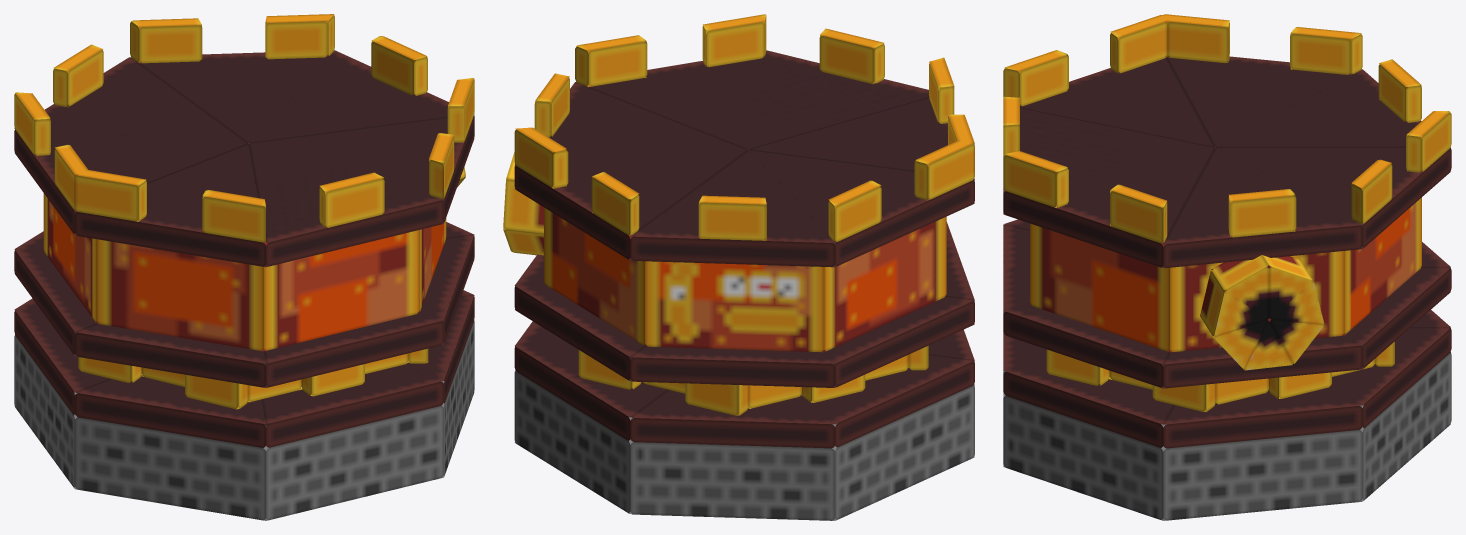
File: Clockwork_Cannon_Tower.fbx
The picture shows the model from 3 angles, left to right: view 1: azimuth 30°, elevation 25°; view 2: azimuth 150°, elevation 25°; view 3: azimuth 270°, elevation 25°; orthographic projection.
Parts seen in each view (by area): view 1: base_2, base, cannon_body, castle, base_1, gear; view 2: base_2, base, cannon_body, castle, base_1, gear, cannon; view 3: base_2, base, castle, cannon_body, base_1, cannon, gear.
Boxes of the visible parts, x1,y1,x2,y2 form: base_2: (14, 50, 474, 267); base: (14, 290, 474, 520); cannon_body: (43, 143, 446, 351); castle: (14, 14, 474, 242); base_1: (14, 222, 474, 387); gear: (78, 348, 428, 409); base_2: (514, 50, 974, 267); base: (514, 321, 974, 520); cannon_body: (544, 149, 946, 352); castle: (514, 14, 974, 242); base_1: (514, 222, 974, 387); gear: (578, 345, 928, 415); cannon: (503, 152, 543, 255); base_2: (1003, 55, 1451, 268); base: (1003, 310, 1451, 520); castle: (1003, 14, 1451, 243); cannon_body: (1030, 147, 1421, 352); base_1: (1003, 219, 1451, 388); cannon: (1200, 255, 1324, 370); gear: (1046, 341, 1394, 411).
Bounding box in the file's own units: 722 × 520 × 675.
Materials: 1 (1 with a texture image).
